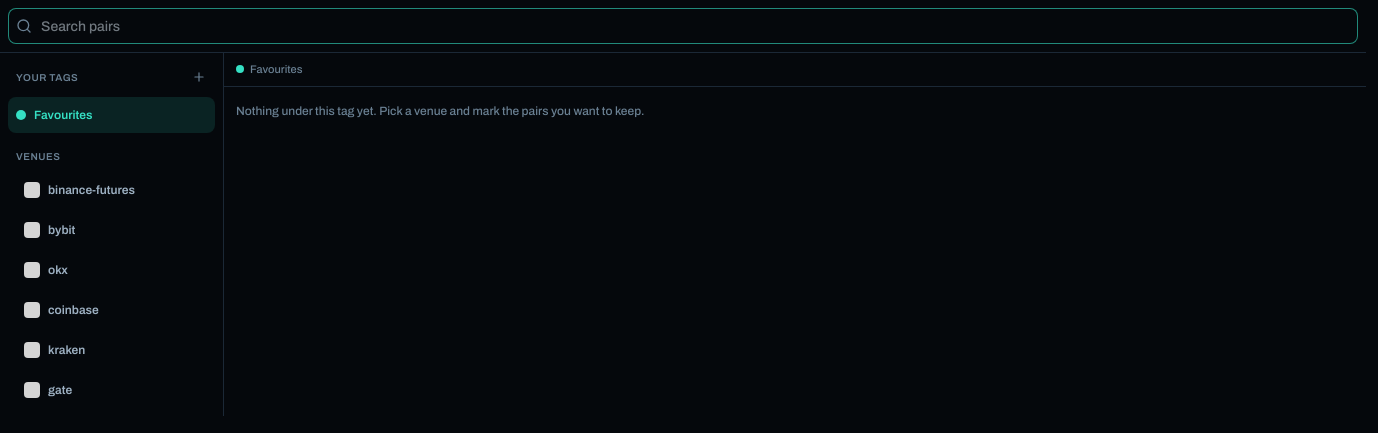
the card a reader picks a contract on › offers a new tag from the heading of the tags, not from the foot of them
The image size is (1378, 433).
Click the button named "New tag": [199, 77] box [187, 65, 211, 89]
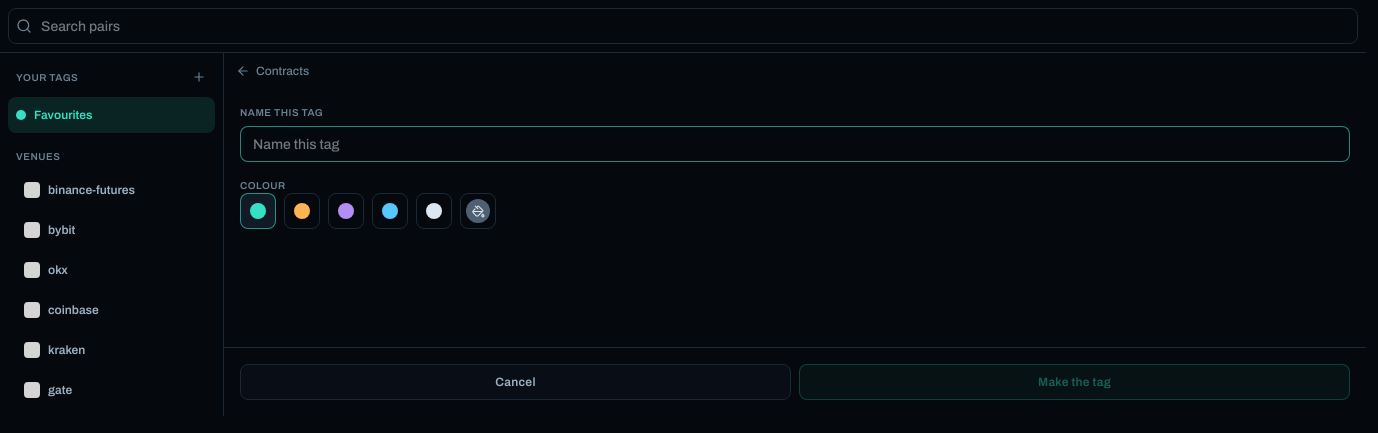
Now the button "Make the tag" is shown, box [799, 364, 1350, 400]
